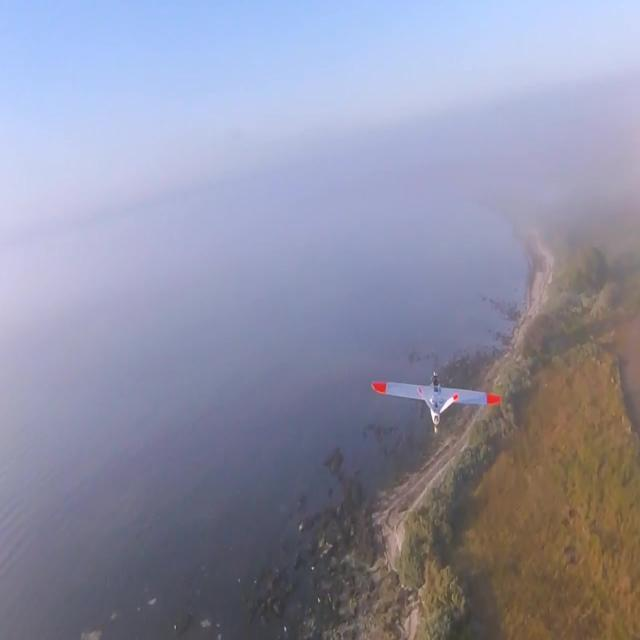iha: (371, 402, 502, 404)
